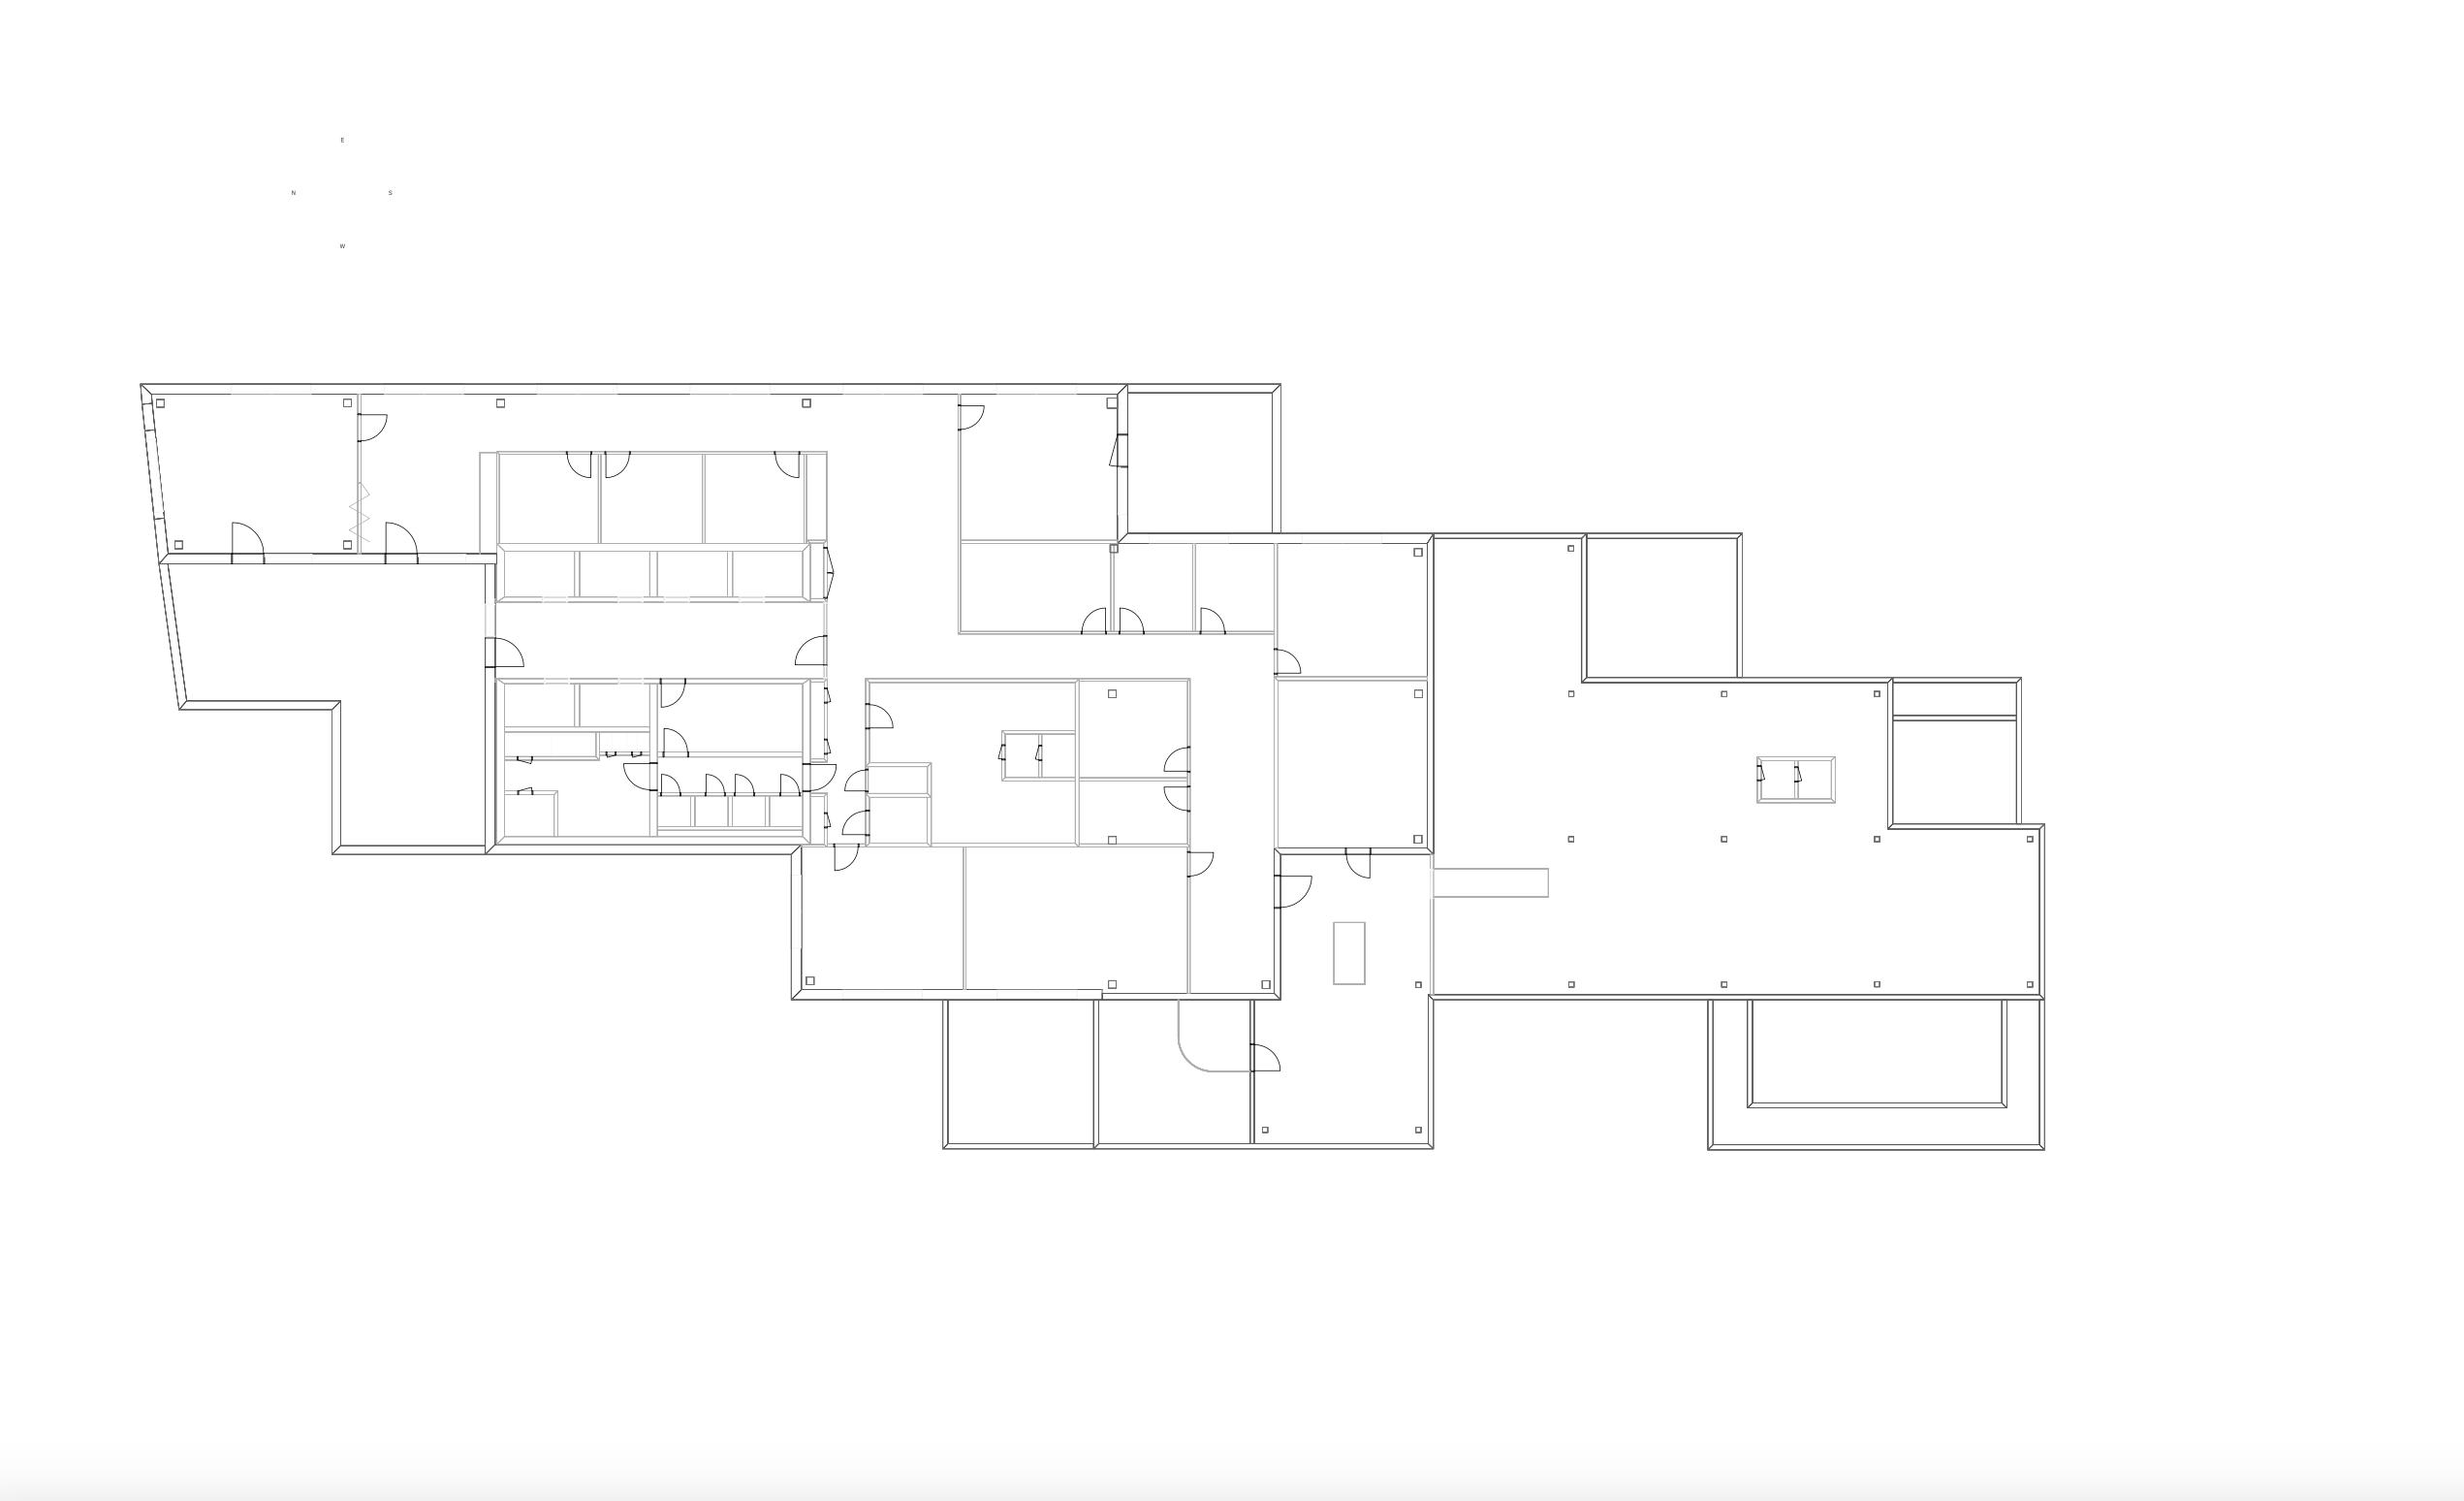room: (167, 563, 486, 846), (1255, 855, 1429, 1144), (150, 394, 359, 554), (869, 683, 1075, 843), (966, 848, 1186, 992), (1751, 999, 2003, 1102), (496, 602, 825, 679), (1278, 681, 1427, 848), (961, 394, 1118, 540), (803, 846, 963, 989), (1584, 535, 1739, 676), (1100, 999, 1250, 1142), (949, 999, 1093, 1144), (1128, 392, 1272, 533), (1278, 544, 1427, 677), (961, 544, 1111, 632), (1894, 720, 2015, 824), (505, 755, 649, 836), (1079, 681, 1188, 778), (658, 683, 803, 751), (600, 454, 702, 544), (500, 454, 600, 544), (706, 454, 804, 544), (1114, 544, 1193, 632), (1195, 544, 1272, 632), (1079, 781, 1188, 843), (656, 757, 803, 792), (1894, 683, 2017, 714), (505, 551, 576, 597), (579, 551, 649, 597), (732, 551, 803, 597), (658, 551, 727, 597), (505, 683, 576, 727), (579, 685, 649, 727), (869, 797, 928, 843), (505, 732, 597, 757), (505, 795, 554, 836), (868, 767, 928, 794), (1042, 734, 1075, 778), (1005, 734, 1038, 776), (1799, 760, 1832, 799), (1762, 760, 1795, 799), (658, 795, 692, 827), (695, 795, 729, 827), (732, 795, 766, 827), (769, 795, 803, 827), (600, 732, 649, 751)
